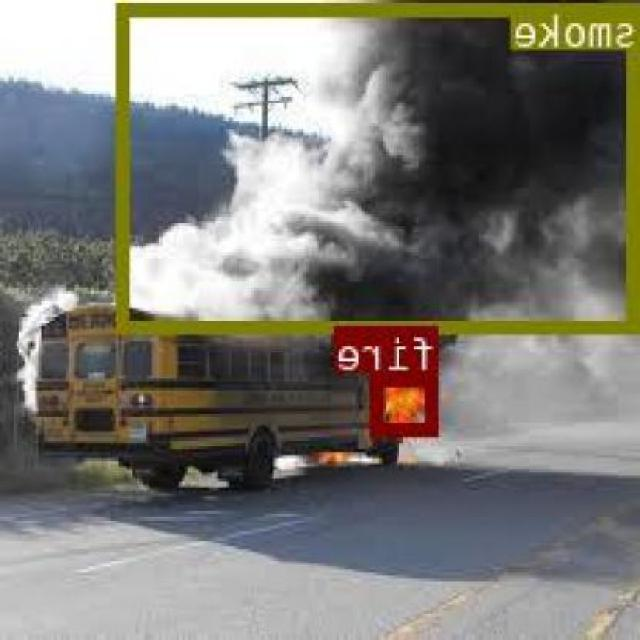Fire: (373, 372, 441, 434)
Smoke: (122, 1, 640, 330)
